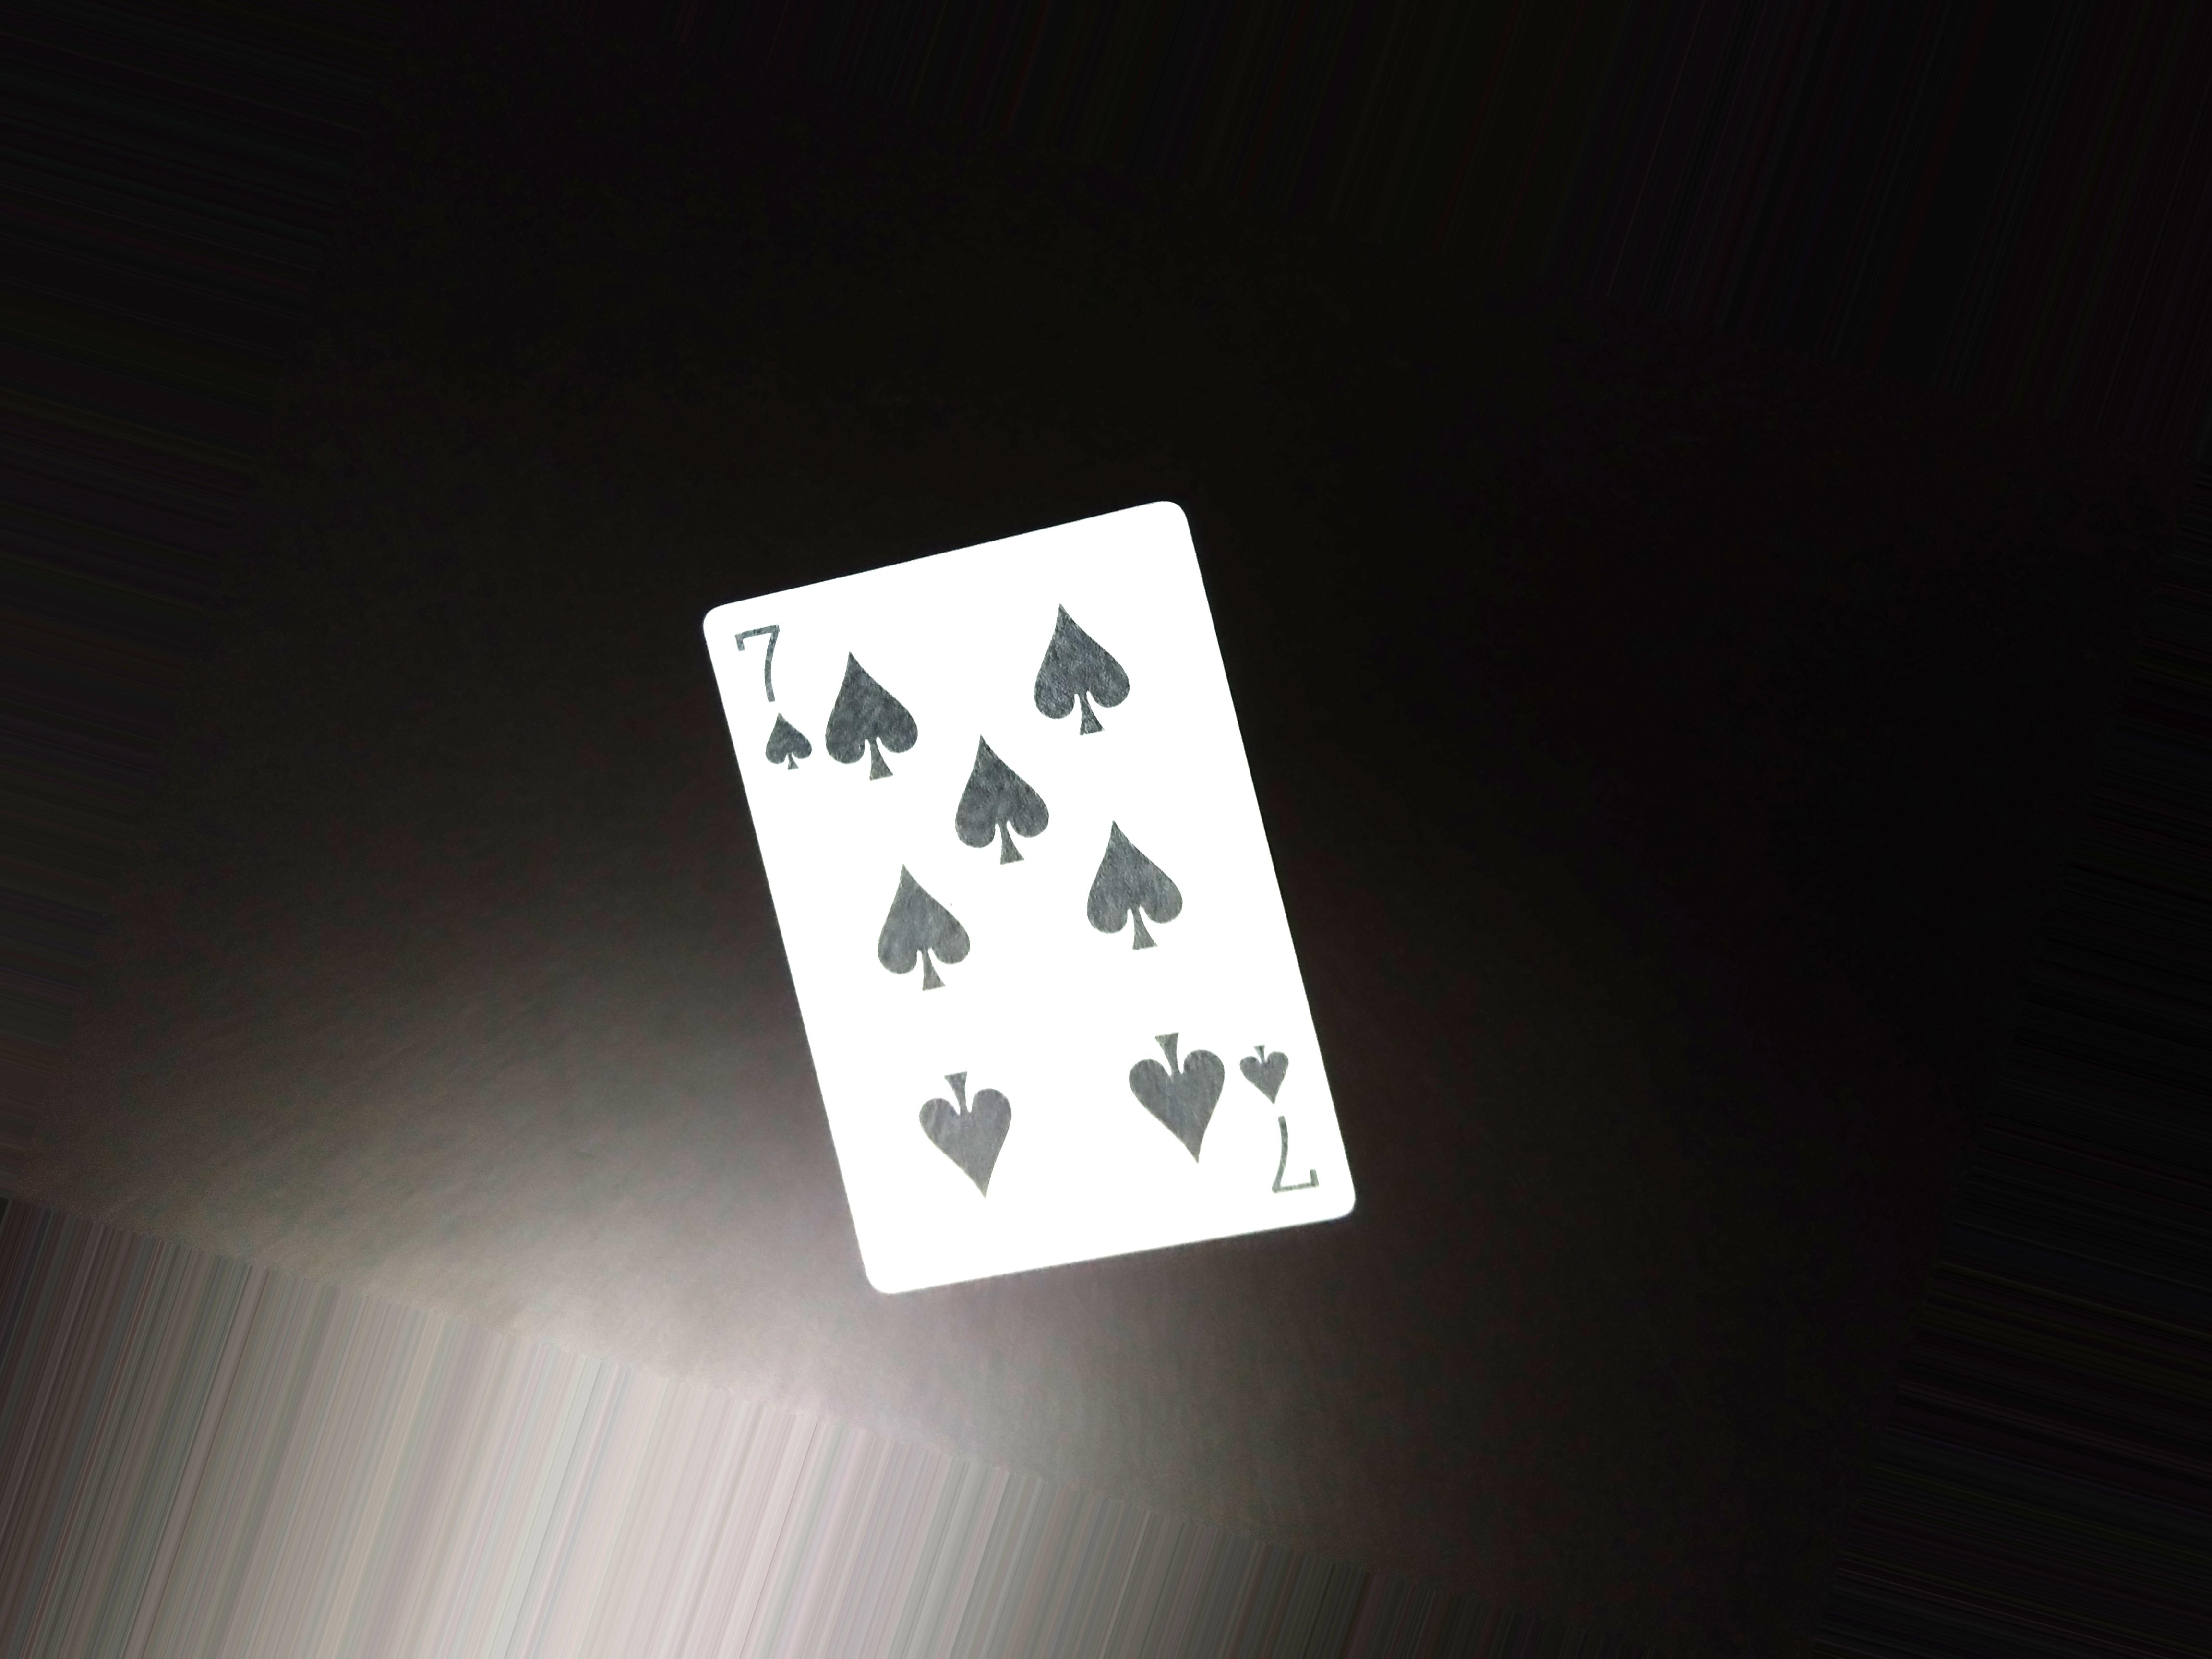7S: (738, 610, 827, 845)
